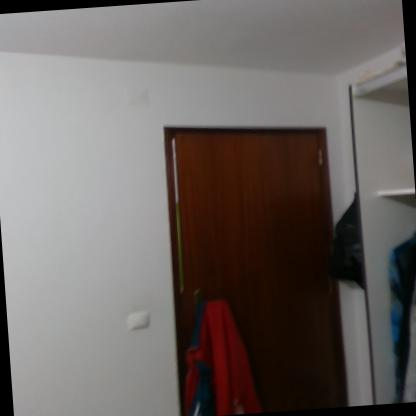closed: (146, 100, 360, 408)
